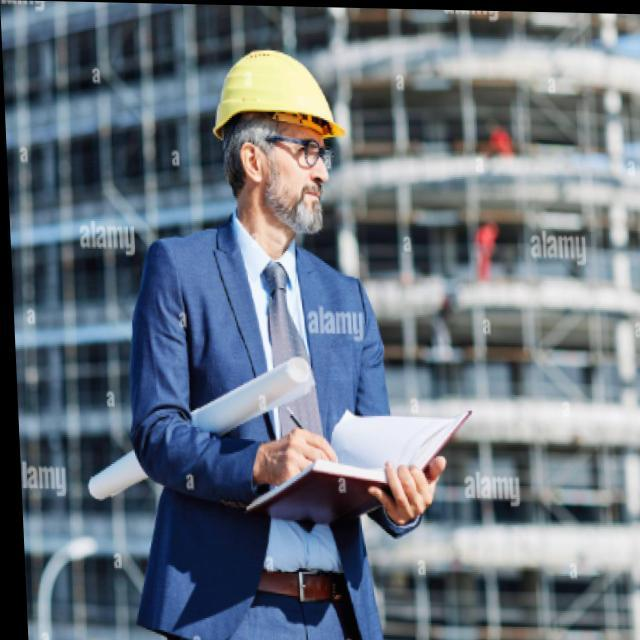hard_hat: (204, 45, 353, 244)
